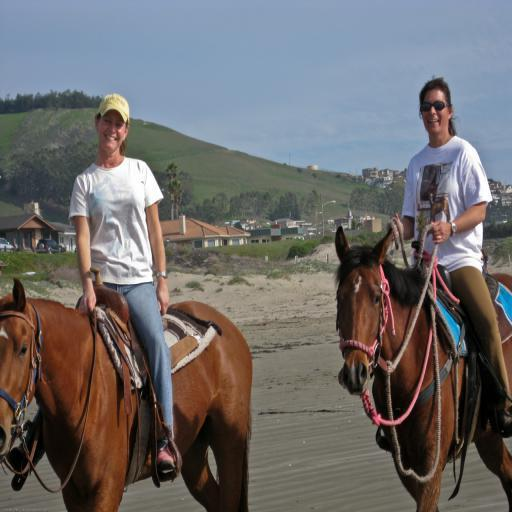horse: (0, 276, 253, 512), (331, 223, 512, 512)
